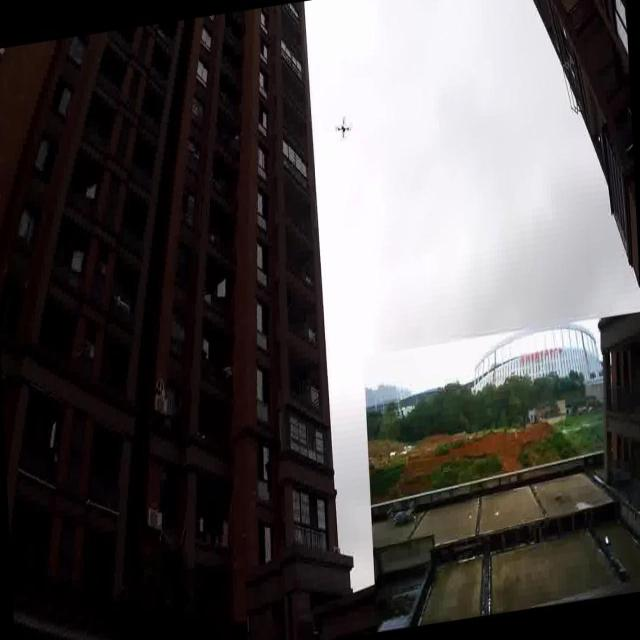drone: (332, 108, 352, 146)
